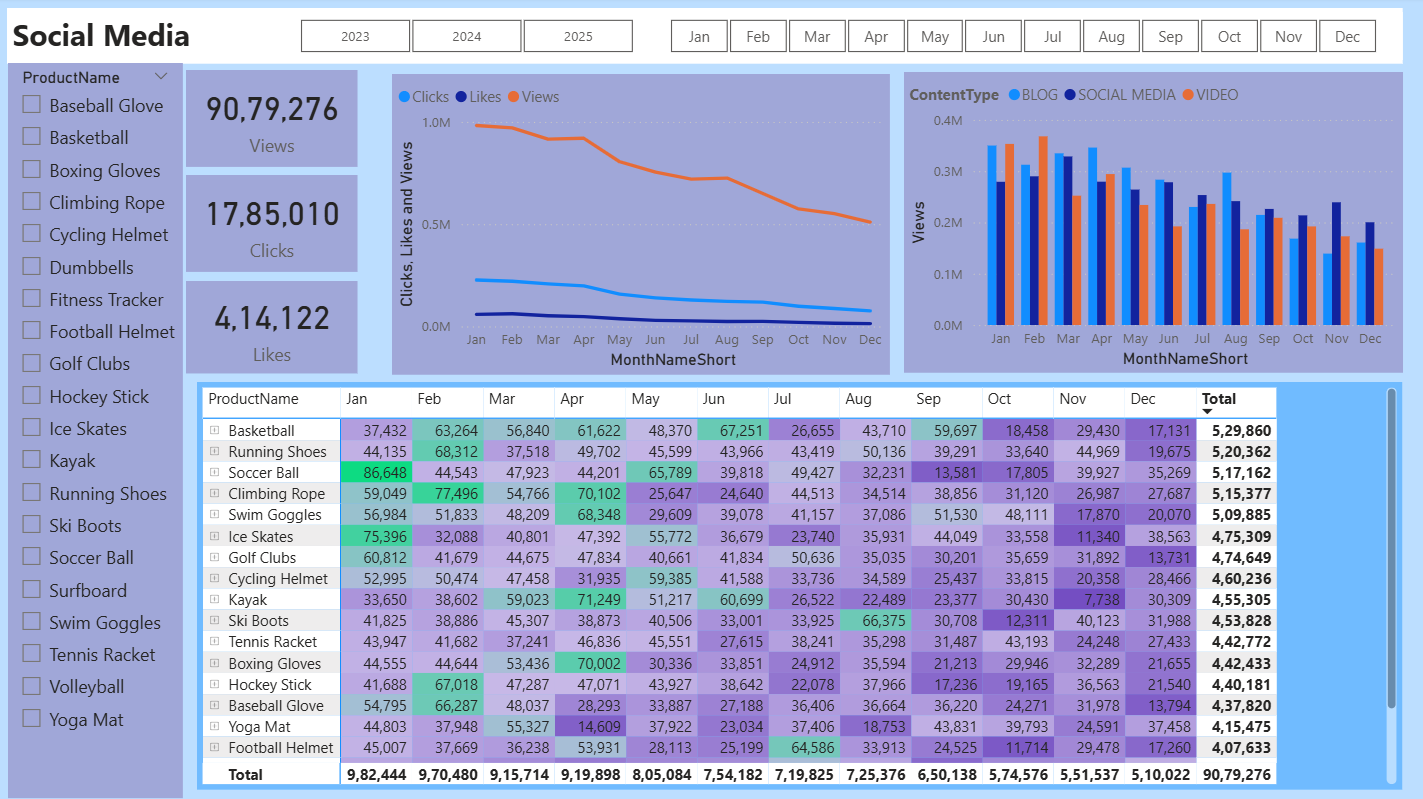

What the dashboard file says about the page in this screenshot:
{"tool":"powerbi","page":{"name":"Social Media","canvas":[1280,720],"ordinal":2},"visuals":[{"type":"textbox","box":[8.8,9.7,1252.8,49.6],"z":0},{"type":"slicer","fields":{"Values":["dim_products.ProductName"]},"box":[9.7,59.3,156.6,660.4],"z":1000},{"type":"card","fields":{"Values":["_Calculations.Views"]},"box":[169.5,65.7,154.3,86.7],"z":2000},{"type":"card","fields":{"Values":["_Calculations.Clicks"]},"box":[169.5,160,154.3,86.7],"z":3000},{"type":"card","fields":{"Values":["_Calculations.Likes"]},"box":[169.5,255.2,154.3,82.9],"z":4000},{"type":"slicer","fields":{"Values":["Calender Calendar.Year"]},"box":[247.1,13.6,348.2,42.8],"z":5000},{"type":"slicer","fields":{"Values":["Calender Calendar.MonthNameShort"]},"box":[578.7,13.6,682.8,42.8],"z":6000},{"type":"clusteredColumnChart","fields":{"Category":["Calender Calendar.MonthNameShort"],"Y":["_Calculations.Views"],"Series":["fact_engagement_data.ContentType"]},"box":[814.3,67.6,447.6,270.5],"z":7000},{"type":"lineChart","fields":{"Category":["Calender Calendar.MonthNameShort"],"Y":["_Calculations.Clicks","_Calculations.Likes","_Calculations.Views"]},"box":[354.4,68.9,447.2,270],"z":8000},{"type":"pivotTable","fields":{"Rows":["dim_products.ProductName","fact_engagement_data.ContentType"],"Columns":["Calender Calendar.MonthNameShort"],"Values":["_Calculations.Views"]},"box":[180,345.3,1081.7,366.4],"z":9000}]}

Visuals, with their boxes in screenshot pixels (x1, y1, x2, y2), scaled from the page's 1280x720 canvas onto the 1423x799 screenshot:
textbox: <region>10, 11, 1403, 66</region>
slicer - dim_products.ProductName: <region>11, 66, 185, 798</region>
card - _Calculations.Views: <region>188, 73, 360, 169</region>
card - _Calculations.Clicks: <region>188, 178, 360, 274</region>
card - _Calculations.Likes: <region>188, 283, 360, 375</region>
slicer - Calender Calendar.Year: <region>275, 15, 662, 63</region>
slicer - Calender Calendar.MonthNameShort: <region>643, 15, 1402, 63</region>
clusteredColumnChart - Calender Calendar.MonthNameShort x _Calculations.Views: <region>905, 75, 1403, 375</region>
lineChart - Calender Calendar.MonthNameShort x _Calculations.Clicks: <region>394, 76, 891, 376</region>
pivotTable - dim_products.ProductName x fact_engagement_data.ContentType: <region>200, 383, 1403, 790</region>
